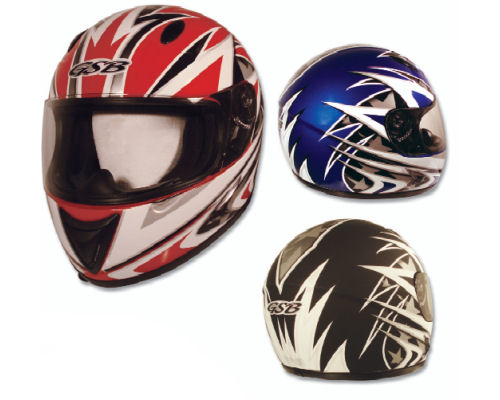helmet: (37, 12, 259, 272), (280, 56, 446, 203), (262, 232, 437, 364)
